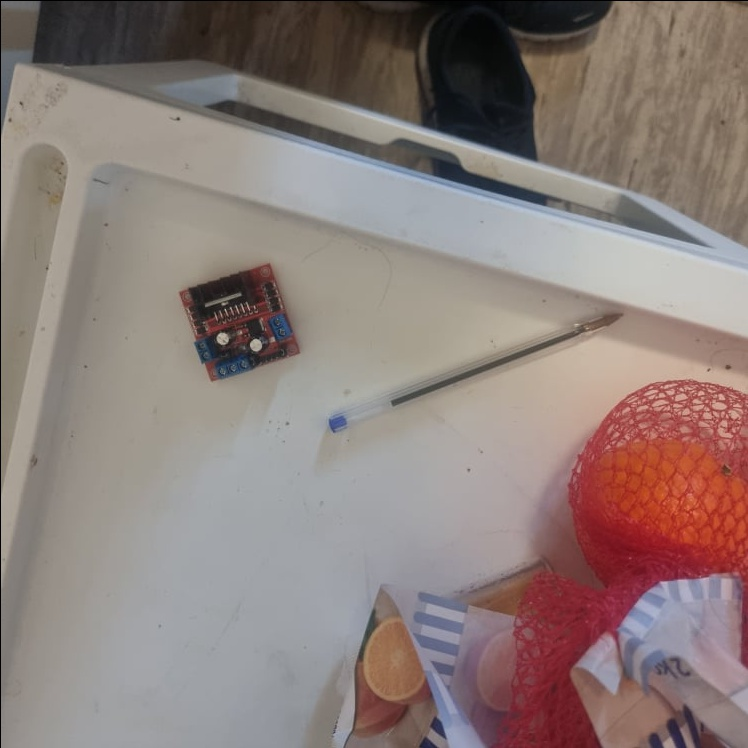MOTOR: (172, 260, 301, 383)
